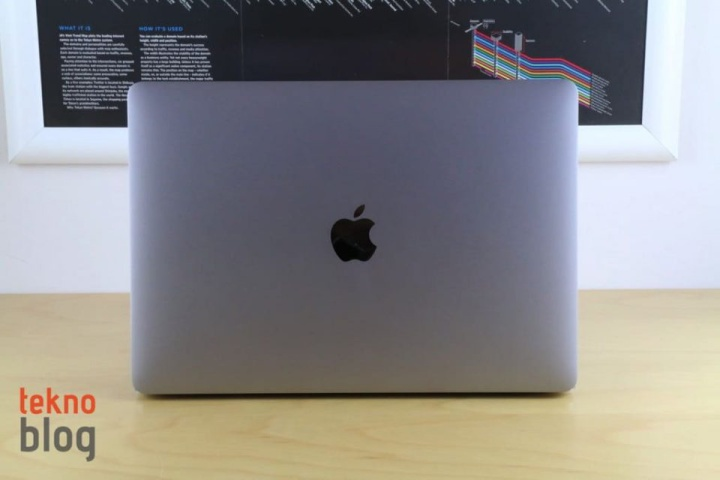apple: (319, 191, 390, 268)
